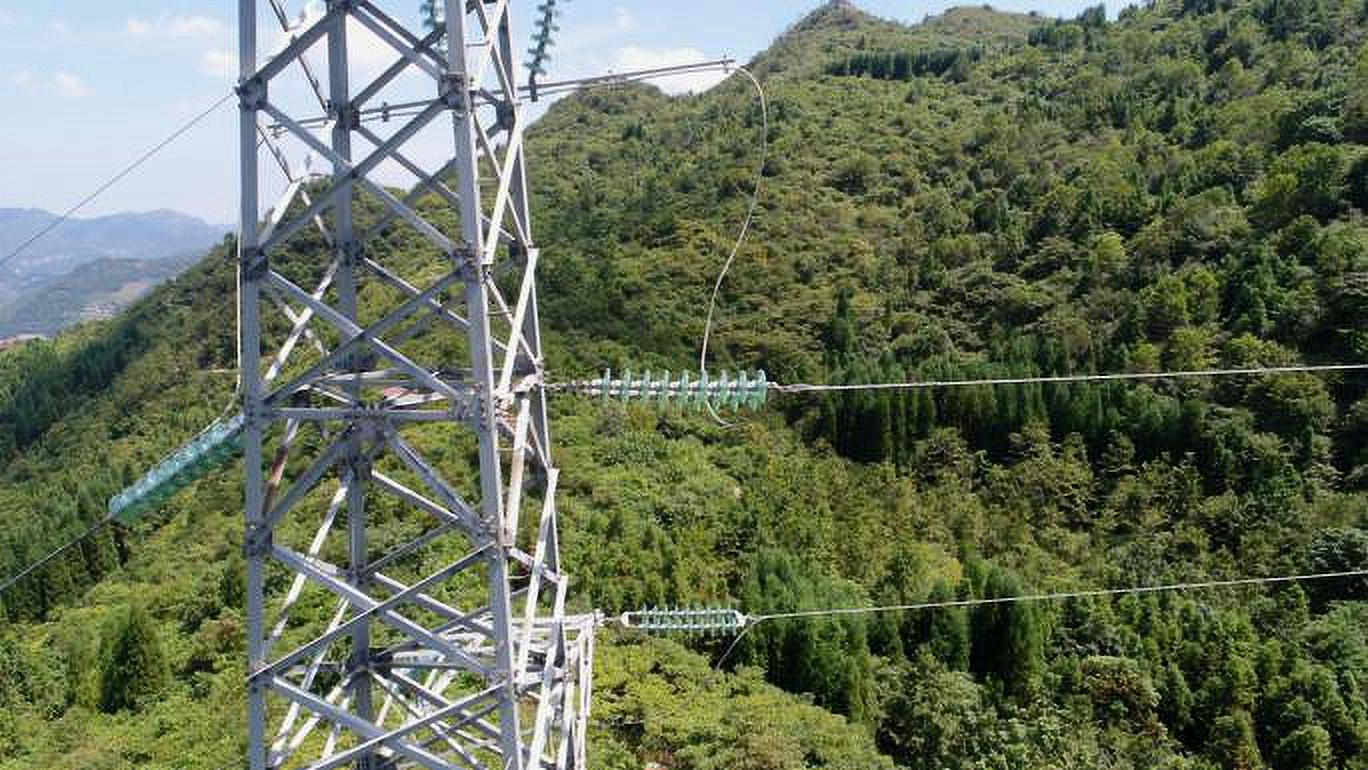insulator: (102, 408, 250, 531), (593, 363, 773, 415), (636, 598, 741, 642), (518, 1, 565, 83)
